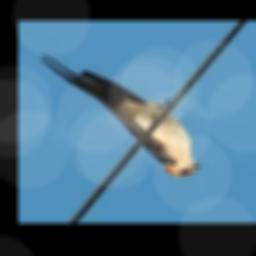Swallow: (39, 54, 202, 178)
